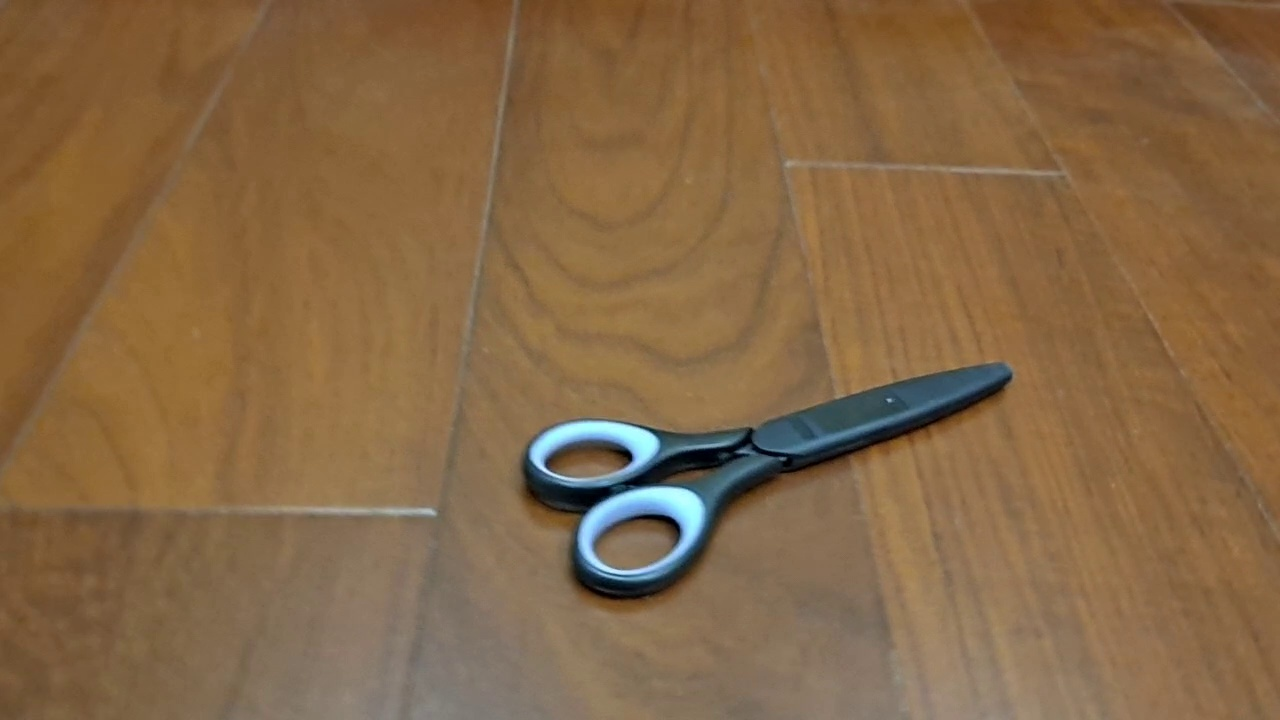scissors: (519, 358, 1014, 601)
